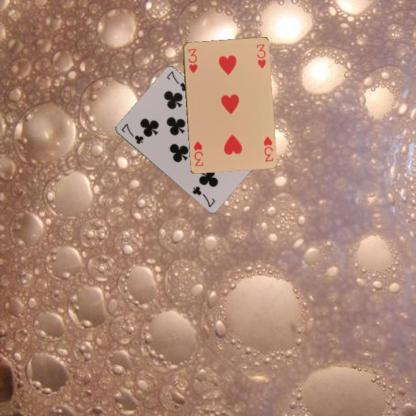3h: (260, 134, 274, 163), (186, 46, 198, 74)
7c: (118, 120, 145, 146)
